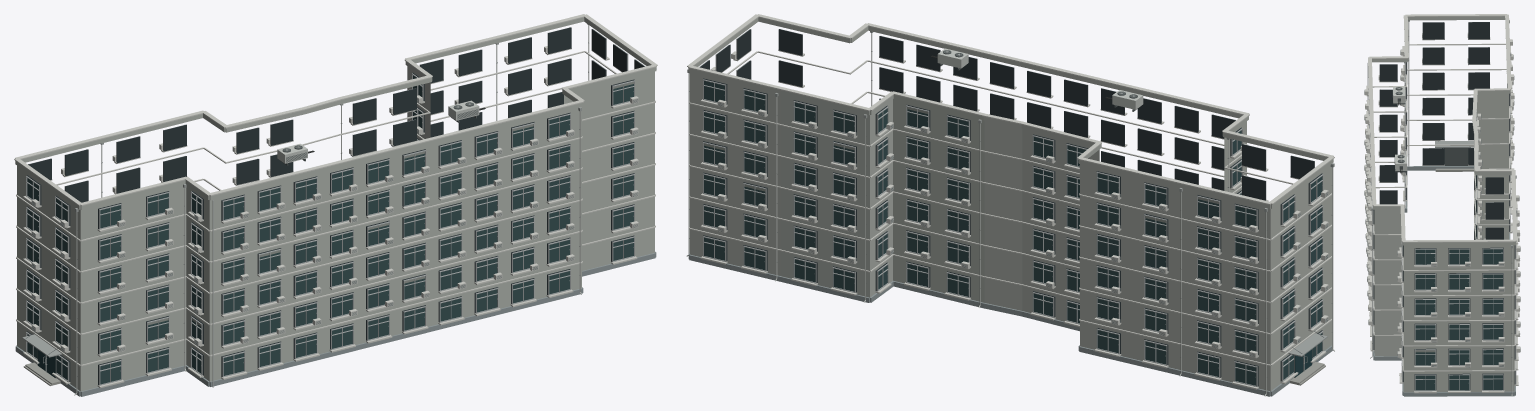
Rendered from osm_way_223859796.glb.
3 renders of one model, left to right at view 1: azimuth 30°, elevation 25°; view 2: azimuth 150°, elevation 25°; view 3: azimuth 270°, elevation 25°, orthographic. The views are drawn at different scales.
Visible parts, largest first — view 1: Architecture | 15, Windows and facade details | 15, Roof services | 15, EXTERIOR::osm_way_223859796::rainwater and roof service deta, EXTERIOR::osm_way_223859796::inferred entry doors canopy and, EXTERIOR::osm_way_223859796::native pane seals and hardware; view 2: Architecture | 15, Windows and facade details | 15, Roof services | 15, EXTERIOR::osm_way_223859796::rainwater and roof service deta, EXTERIOR::osm_way_223859796::inferred entry doors canopy and; view 3: Architecture | 15, Windows and facade details | 15, Roof services | 15, EXTERIOR::osm_way_223859796::rainwater and roof service deta, EXTERIOR::osm_way_223859796::inferred entry doors canopy and.
Part boxes in pixels (x1=…): Architecture | 15: x1=15, y1=17, x2=656, y2=396; Windows and facade details | 15: x1=23, y1=27, x2=645, y2=388; Roof services | 15: x1=14, y1=14, x2=657, y2=205; EXTERIOR::osm_way_223859796::rainwater and roof service deta: x1=74, y1=24, x2=589, y2=395; EXTERIOR::osm_way_223859796::inferred entry doors canopy and: x1=22, y1=332, x2=61, y2=385; EXTERIOR::osm_way_223859796::native pane seals and hardware: x1=38, y1=81, x2=633, y2=371; Architecture | 15: x1=688, y1=17, x2=1333, y2=396; Windows and facade details | 15: x1=699, y1=29, x2=1328, y2=389; Roof services | 15: x1=687, y1=14, x2=1334, y2=204; EXTERIOR::osm_way_223859796::rainwater and roof service deta: x1=686, y1=31, x2=1334, y2=396; EXTERIOR::osm_way_223859796::inferred entry doors canopy and: x1=1288, y1=331, x2=1327, y2=385; Architecture | 15: x1=1372, y1=16, x2=1516, y2=396; Windows and facade details | 15: x1=1364, y1=22, x2=1520, y2=393; Roof services | 15: x1=1368, y1=14, x2=1516, y2=242; EXTERIOR::osm_way_223859796::rainwater and roof service deta: x1=1370, y1=20, x2=1517, y2=396; EXTERIOR::osm_way_223859796::inferred entry doors canopy and: x1=1435, y1=141, x2=1473, y2=171.
Bounding box in the file's own units: 63.65 × 20.58 × 17.99.
